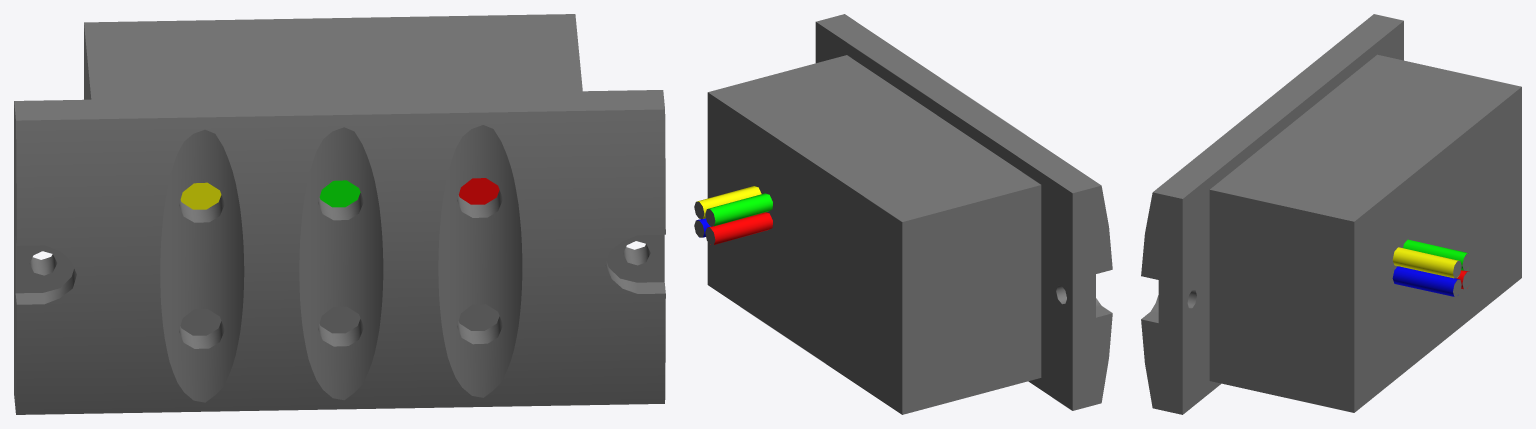
Rendered from 04.3_blok-indikatsii-napryazheniya-evi-3.glb.
3 renders of one model, left to right at view 1: azimuth 30°, elevation 25°; view 2: azimuth 150°, elevation 25°; view 3: azimuth 270°, elevation 25°, orthographic. The views are drawn at different scales.
Parts seen in each view (by area): view 1: 04.3_blok-indikatsii-napryazheniya-evi-3; view 2: 04.3_blok-indikatsii-napryazheniya-evi-3; view 3: 04.3_blok-indikatsii-napryazheniya-evi-3.
Boxes of the visible parts, bbox=[...] form: 04.3_blok-indikatsii-napryazheniya-evi-3: bbox=[14, 14, 665, 414]; 04.3_blok-indikatsii-napryazheniya-evi-3: bbox=[694, 14, 1112, 414]; 04.3_blok-indikatsii-napryazheniya-evi-3: bbox=[1141, 14, 1521, 414].
Bounding box in the file's own units: 68.83 × 35 × 55.95.
